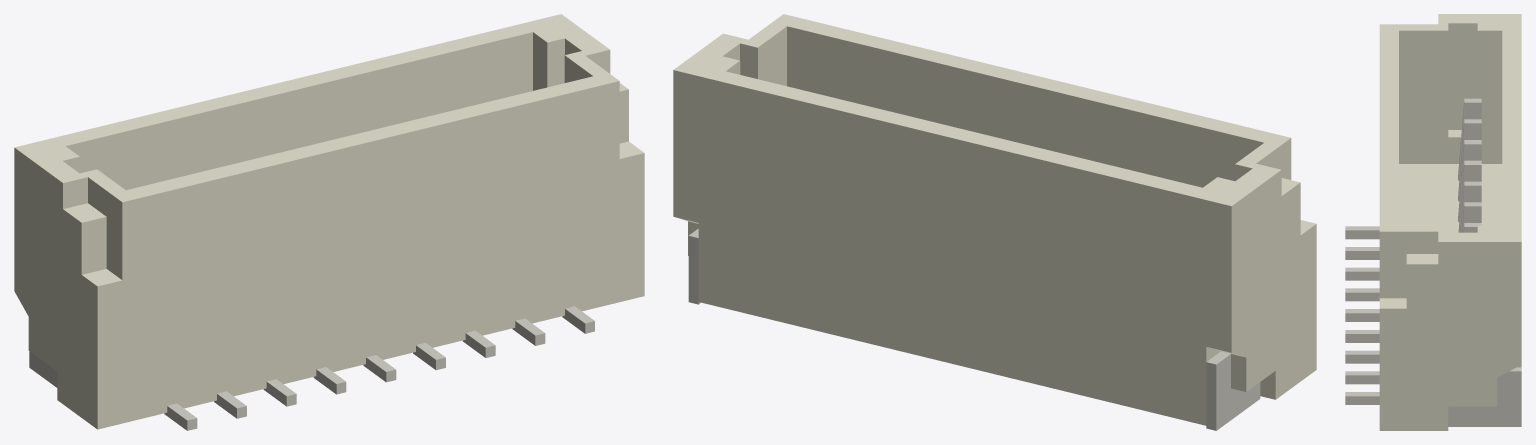
The model's file is kc-jst_sh_bm09b-srss-tb_1x09-1mp_p1.00mm_vertical.glb.
The picture shows the model from 3 angles, left to right: view 1: azimuth 30°, elevation 25°; view 2: azimuth 150°, elevation 25°; view 3: azimuth 270°, elevation 25°; orthographic projection. The views are drawn at different scales.
Parts seen in each view (by area): view 1: 0.75_0.75_0.6666666666666666_0, 0.6666666666666666_0.6666666666666666_0.5833333333333334_0.8; view 2: 0.75_0.75_0.6666666666666666_0, 0.6666666666666666_0.6666666666666666_0.5833333333333334_0.8; view 3: 0.75_0.75_0.6666666666666666_0, 0.6666666666666666_0.6666666666666666_0.5833333333333334_0.8.
Part boxes in pixels (box(x1,y1,x2,y2)): 0.75_0.75_0.6666666666666666_0: box(14, 14, 644, 429); 0.6666666666666666_0.6666666666666666_0.5833333333333334_0.8: box(29, 306, 594, 430); 0.75_0.75_0.6666666666666666_0: box(673, 14, 1316, 425); 0.6666666666666666_0.6666666666666666_0.5833333333333334_0.8: box(688, 228, 1260, 430); 0.75_0.75_0.6666666666666666_0: box(1379, 14, 1521, 430); 0.6666666666666666_0.6666666666666666_0.5833333333333334_0.8: box(1345, 98, 1521, 426).
Bounding box in the file's own units: 1.1 × 0.432 × 0.36.
